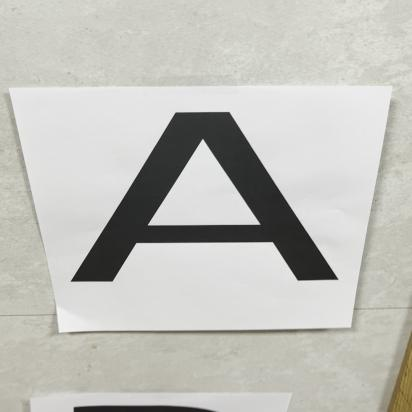seat: (61, 106, 320, 290)
